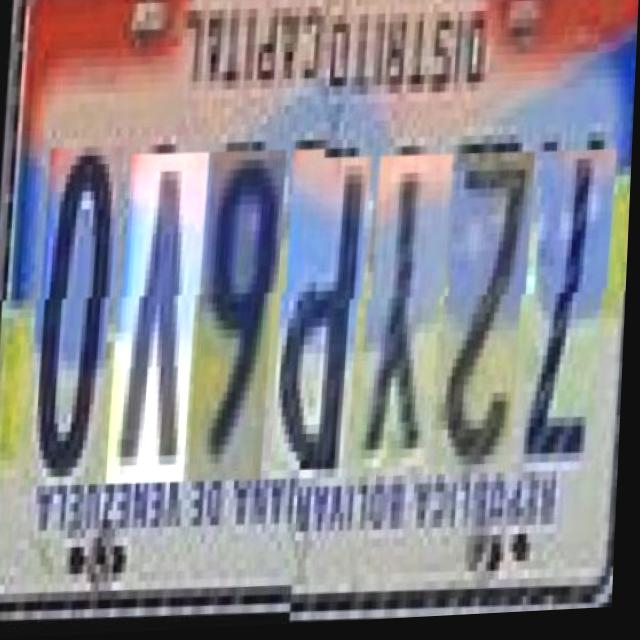2: (436, 148, 532, 473)
6: (191, 154, 282, 488)
7: (522, 147, 613, 471)
o: (28, 150, 119, 491)
p: (273, 152, 369, 486)
v: (110, 155, 204, 490)
y: (360, 150, 449, 475)
